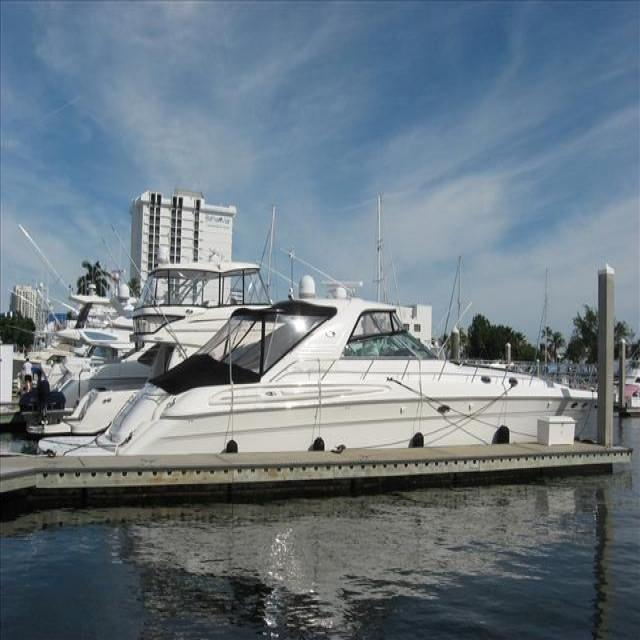houseboat: (62, 262, 596, 469)
